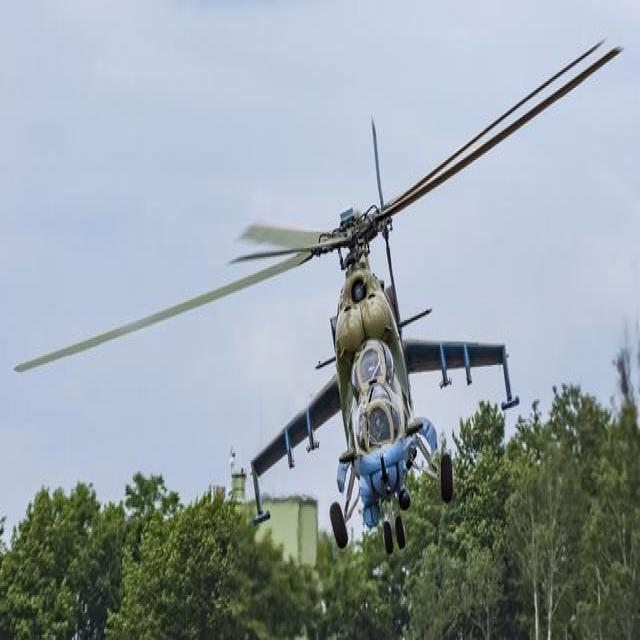MIL_HELO: (17, 38, 623, 563)
